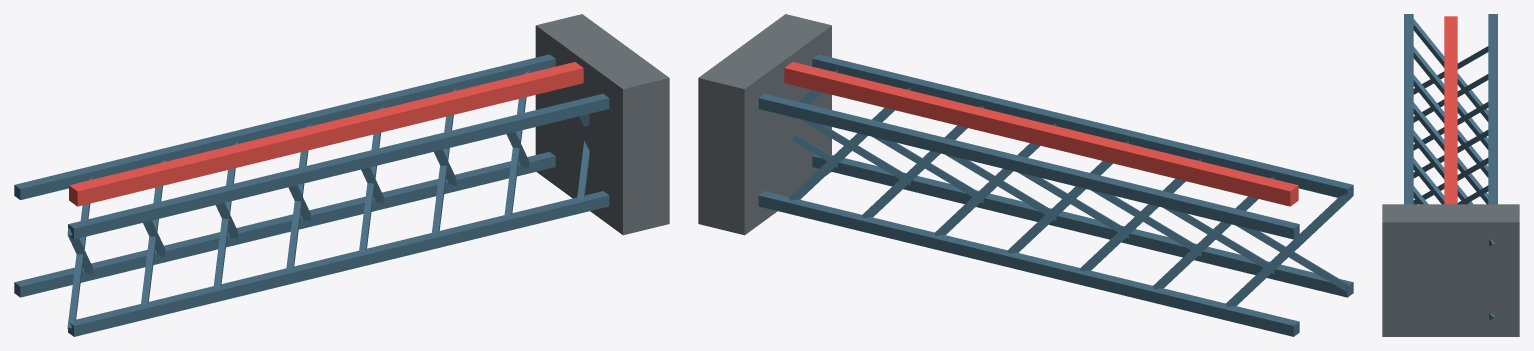
The model's file is pad_umbilical_arm.fbx.
3 renders of one model, left to right at view 1: azimuth 30°, elevation 25°; view 2: azimuth 150°, elevation 25°; view 3: azimuth 270°, elevation 25°, orthographic. The views are drawn at different scales.
Visible parts, largest first — view 1: pad_umbilical_arm; view 2: pad_umbilical_arm; view 3: pad_umbilical_arm.
Part boxes in pixels (<box>): pad_umbilical_arm: <box>14,14,669,336</box>; pad_umbilical_arm: <box>698,14,1353,336</box>; pad_umbilical_arm: <box>1382,14,1519,336</box>.
Size of the model in its own units: 10.12 by 2.4 by 2.6.
